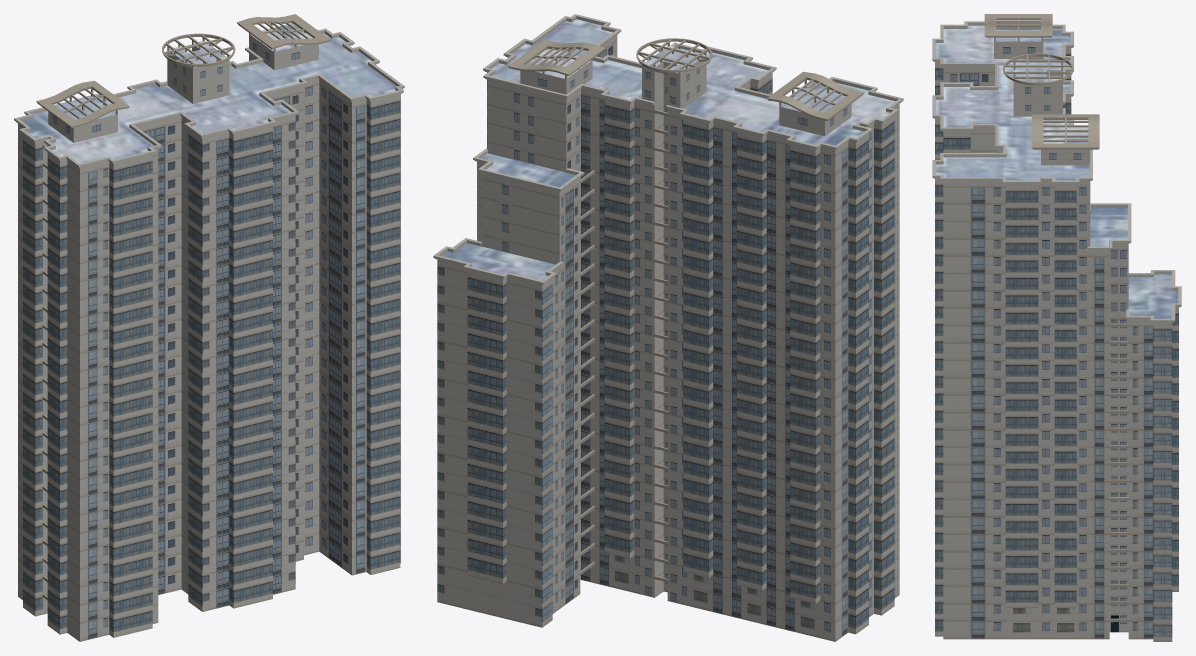
File: side building44.FBX
3 views of the same model, side by side, from view 1: azimuth 30°, elevation 25°; view 2: azimuth 150°, elevation 25°; view 3: azimuth 270°, elevation 25° (orthographic). The views are drawn at different scales.
Visible parts, largest first — view 1: 绿港花园2; view 2: 绿港花园2; view 3: 绿港花园2.
Part boxes in pixels (x1=…): 绿港花园2: x1=14, y1=14, x2=404, y2=641; 绿港花园2: x1=433, y1=14, x2=903, y2=641; 绿港花园2: x1=932, y1=14, x2=1181, y2=641.
Bounding box in the file's own units: 69.5 × 45.59 × 100.
